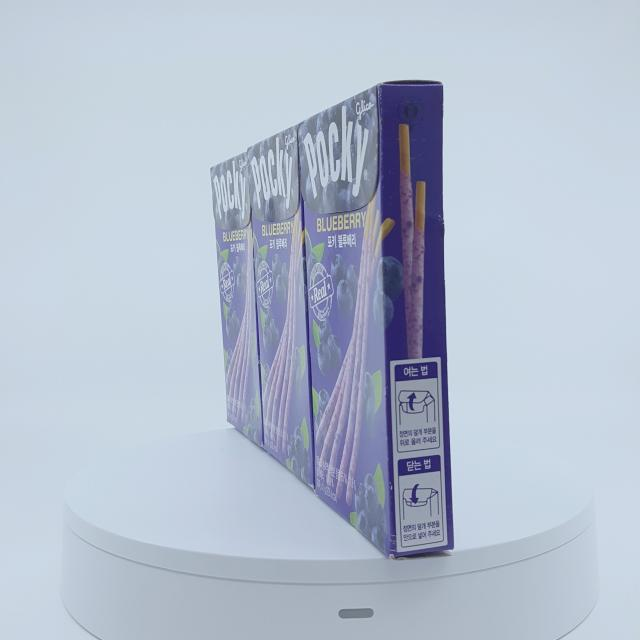-41G: (298, 81, 455, 562)
